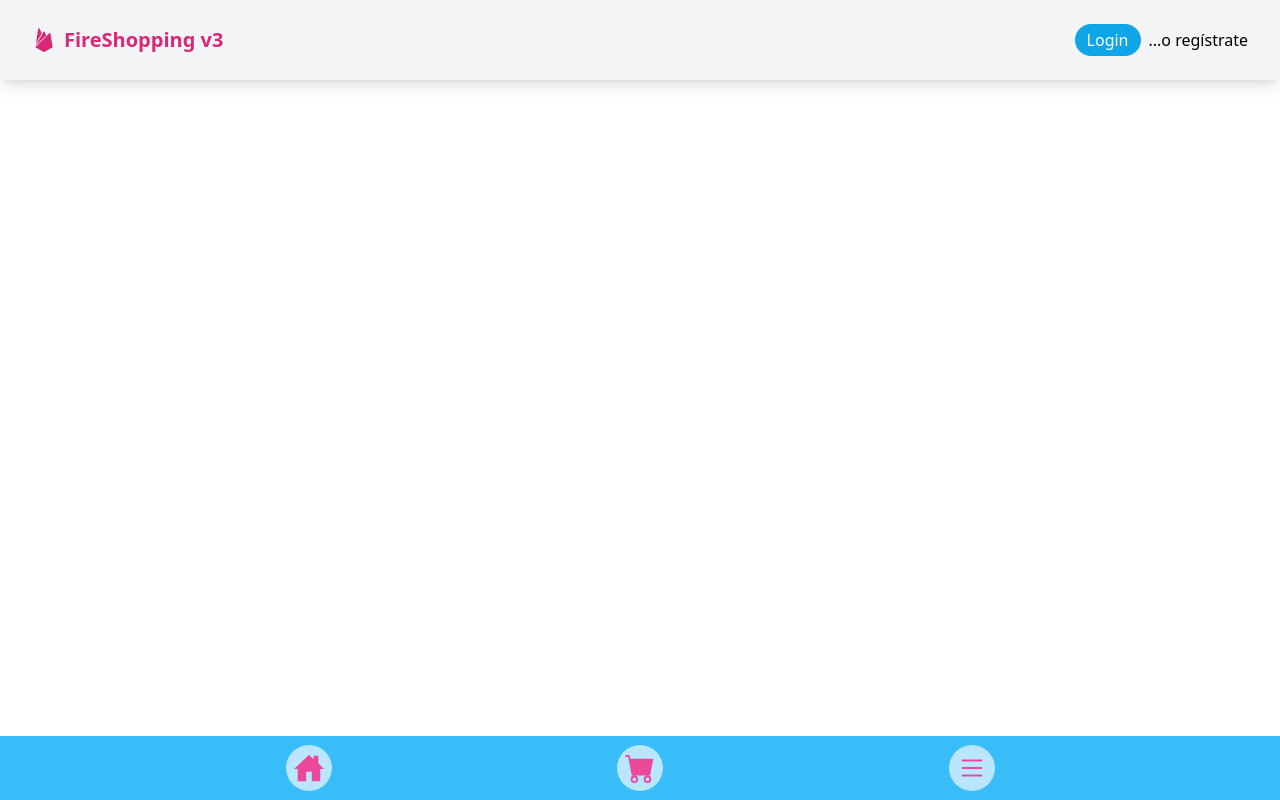
Test case: Testeamos la gestión de usuarios › Podemos acceder a la ruta de Registrarse
Expected: the text "¡Regístrate para obtener acceso a la mejor app del mundo!" is not shown
Click the button "...o regístrate". click: (1199, 40)
box: x1=1149 y1=24 x2=1249 y2=56
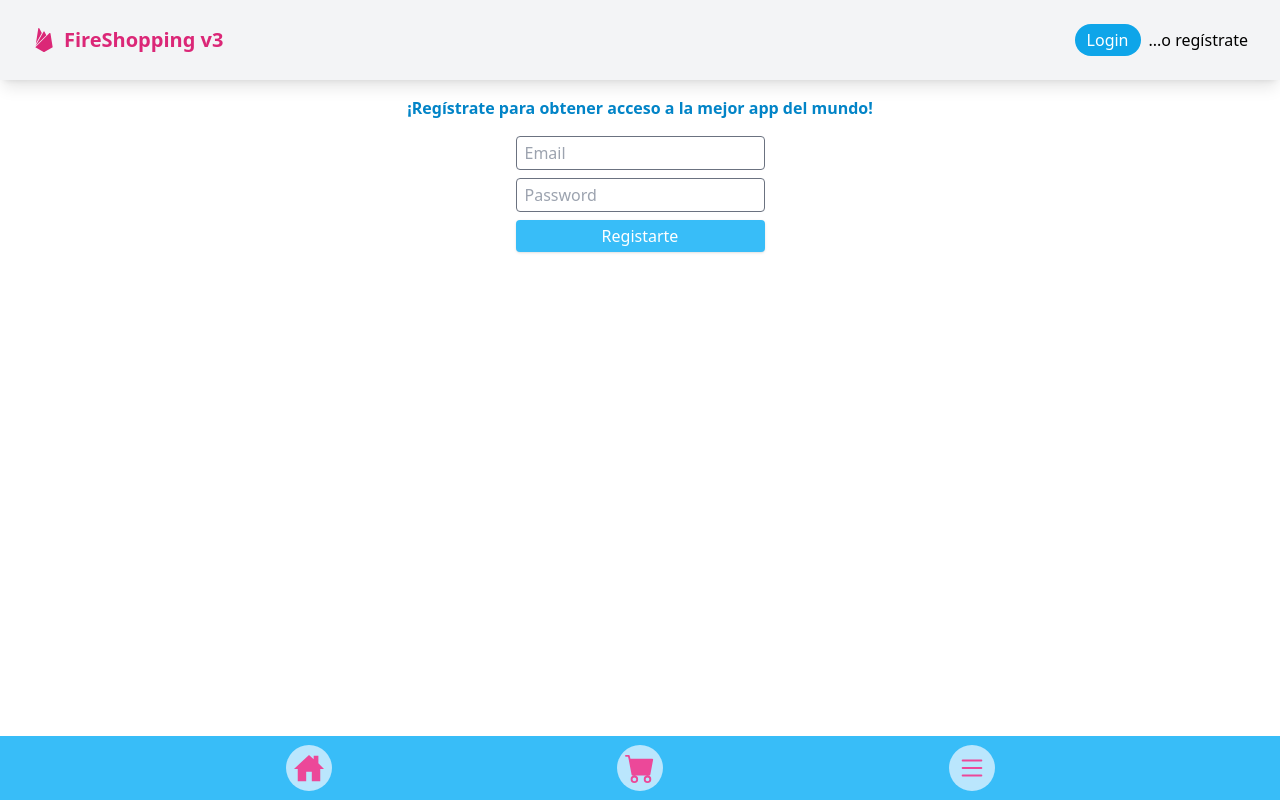
Expected: the heading "¡Regístrate para obtener acceso a la mejor app del mundo!" is shown, x1=407 y1=96 x2=873 y2=120
